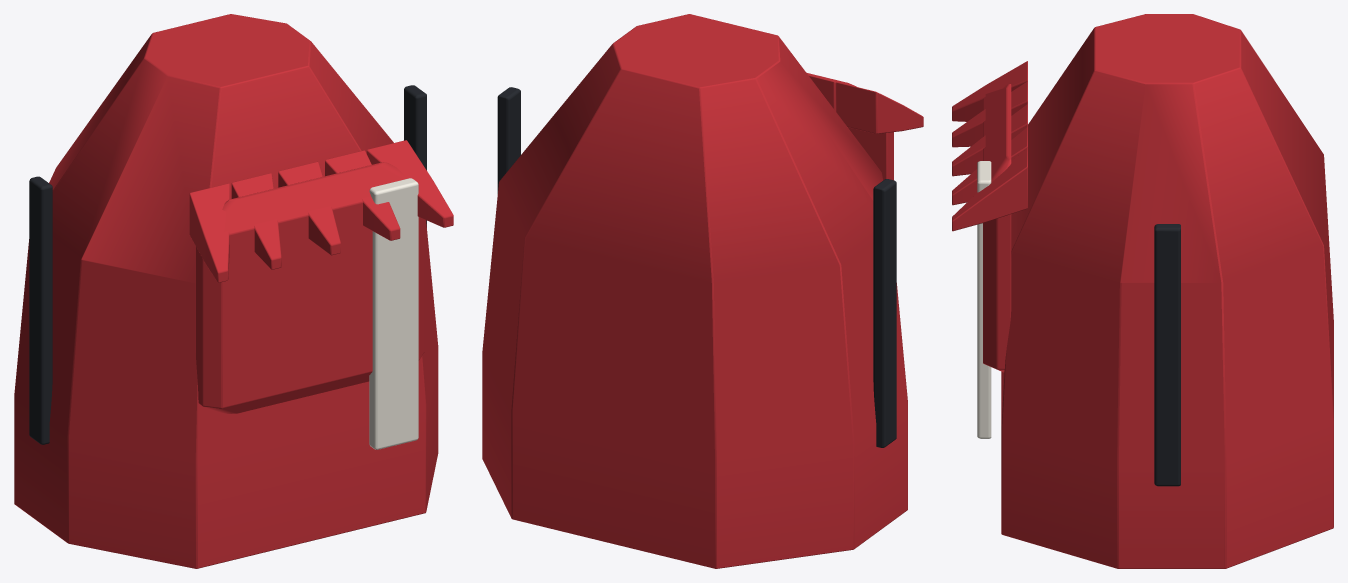
File: QuadBodyFront_Set01_Ironclad.fbx
3 views of the same model, side by side, from view 1: azimuth 30°, elevation 25°; view 2: azimuth 150°, elevation 25°; view 3: azimuth 270°, elevation 25° (orthographic).
Visible parts, largest first — view 1: QuadBodyFront_Set01_Ironclad; view 2: QuadBodyFront_Set01_Ironclad; view 3: QuadBodyFront_Set01_Ironclad.
Part boxes in pixels (<box>): QuadBodyFront_Set01_Ironclad: <box>14,14,453,568</box>; QuadBodyFront_Set01_Ironclad: <box>482,14,923,568</box>; QuadBodyFront_Set01_Ironclad: <box>952,14,1333,568</box>.
Bounding box in the file's own units: 0.94 × 1 × 0.804.
